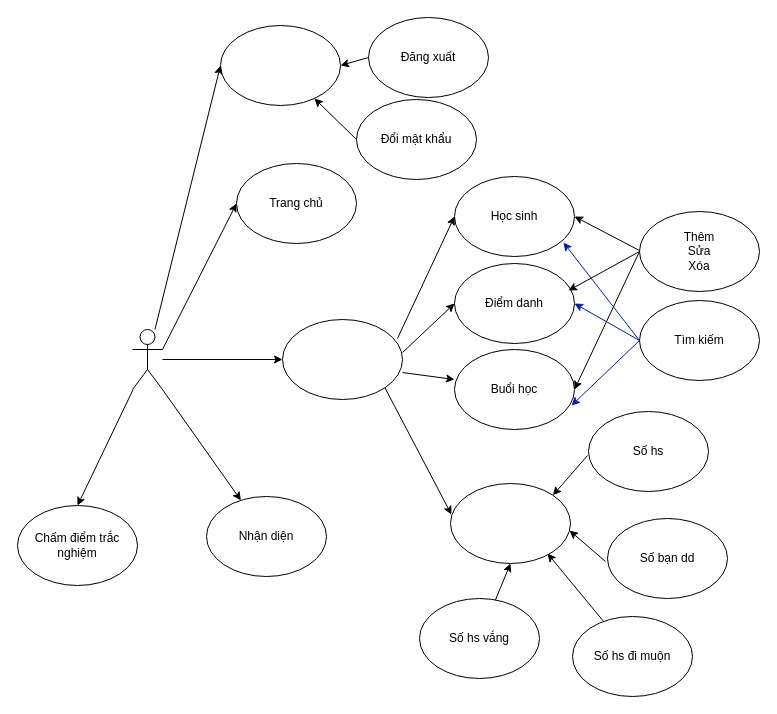
The diagram is 777 pixels wide and 714 high, and some of its shapes have lost their labels. The centre of each missing label's shape, as x and y in pixels:
Giáo viên: (147,359)
Quản lý: (342,359)
Thống kê: (510,523)
Đăng nhập: (280,65)
